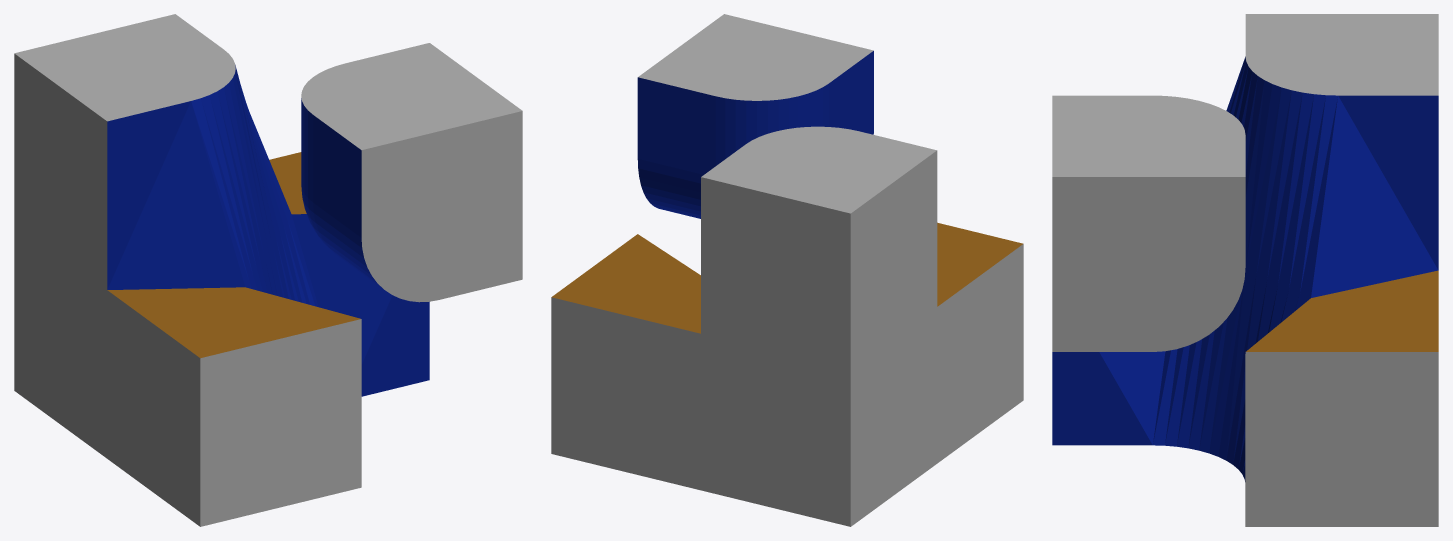
Rendered from case_91.fbx.
3 renders of one model, left to right at view 1: azimuth 30°, elevation 25°; view 2: azimuth 150°, elevation 25°; view 3: azimuth 270°, elevation 25°, orthographic. The views are drawn at different scales.
Parts seen in each view (by area): view 1: case_91; view 2: case_91; view 3: case_91.
Part boxes in pixels (box(x1,y1,x2,y2)): case_91: box(14, 14, 522, 526); case_91: box(551, 14, 1023, 526); case_91: box(1052, 14, 1438, 526).
Size of the model in its own units: 100 by 100 by 100.
